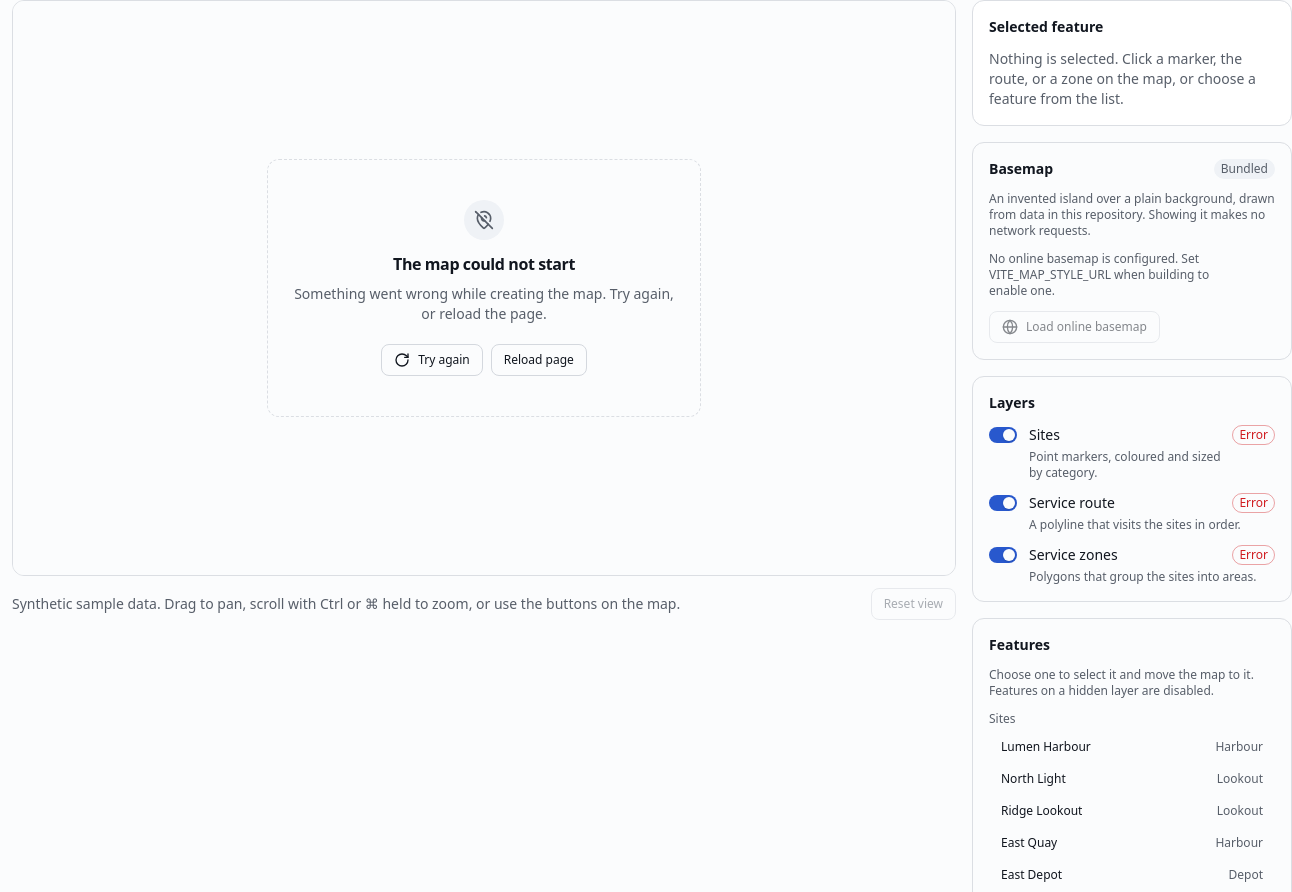
it: when the map cannot start › offers Retry for a failed start, and a fresh map replaces the failure
Expected: the heading "The map could not start" is shown, x1=393 y1=252 x2=575 y2=276
What coordinates should you click on to do the following:
click the button "Try again"
I would click on:
 (432, 360)
Its box is x1=381 y1=344 x2=483 y2=376.
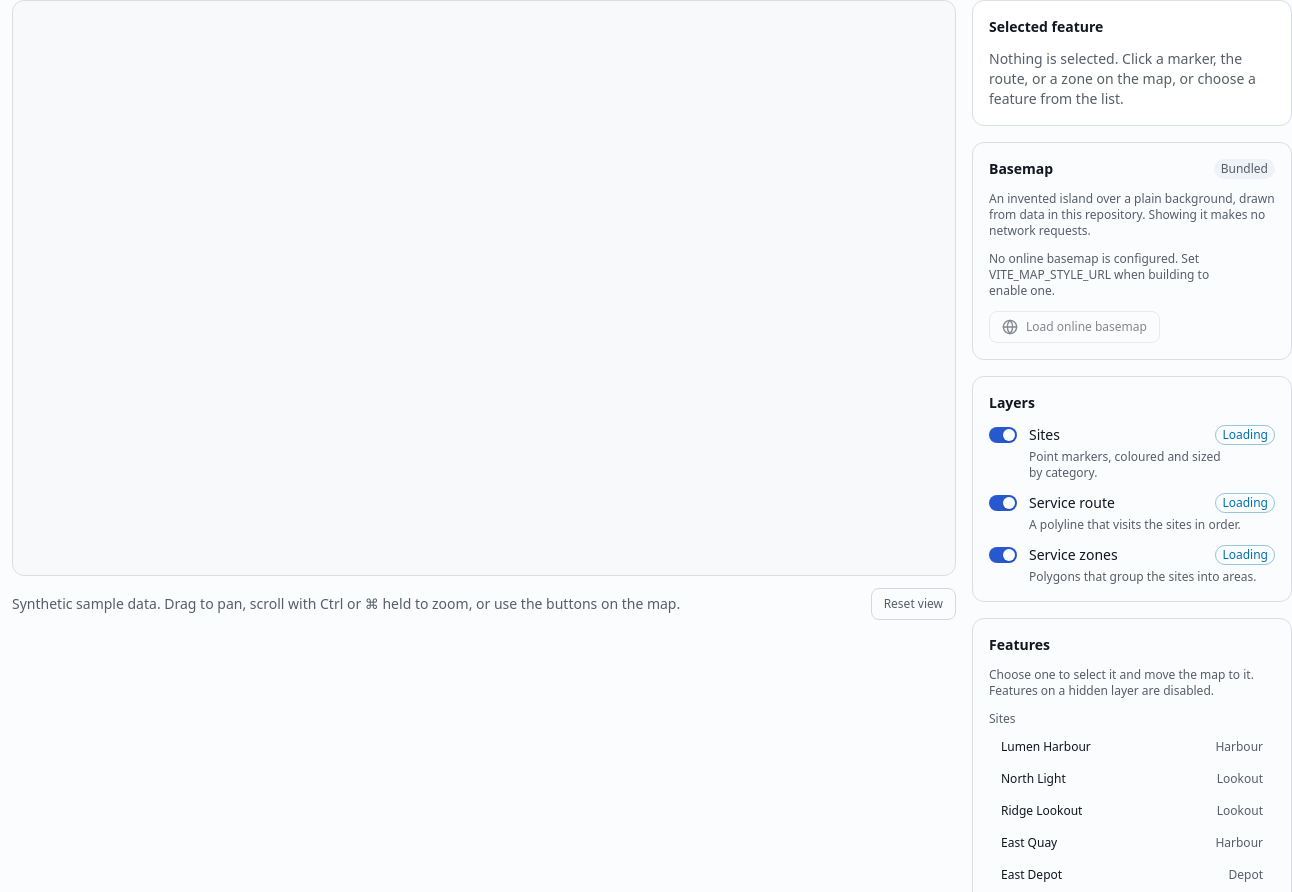
Now the message "The map could not start Something went wrong while creating the map. Try again," is gone
